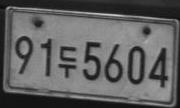0: (126, 45, 146, 85)
1: (38, 37, 57, 77)
4: (148, 46, 168, 88)
5: (82, 40, 101, 81)
6: (104, 43, 124, 83)
9: (14, 34, 34, 75)
두: (57, 45, 77, 78)
